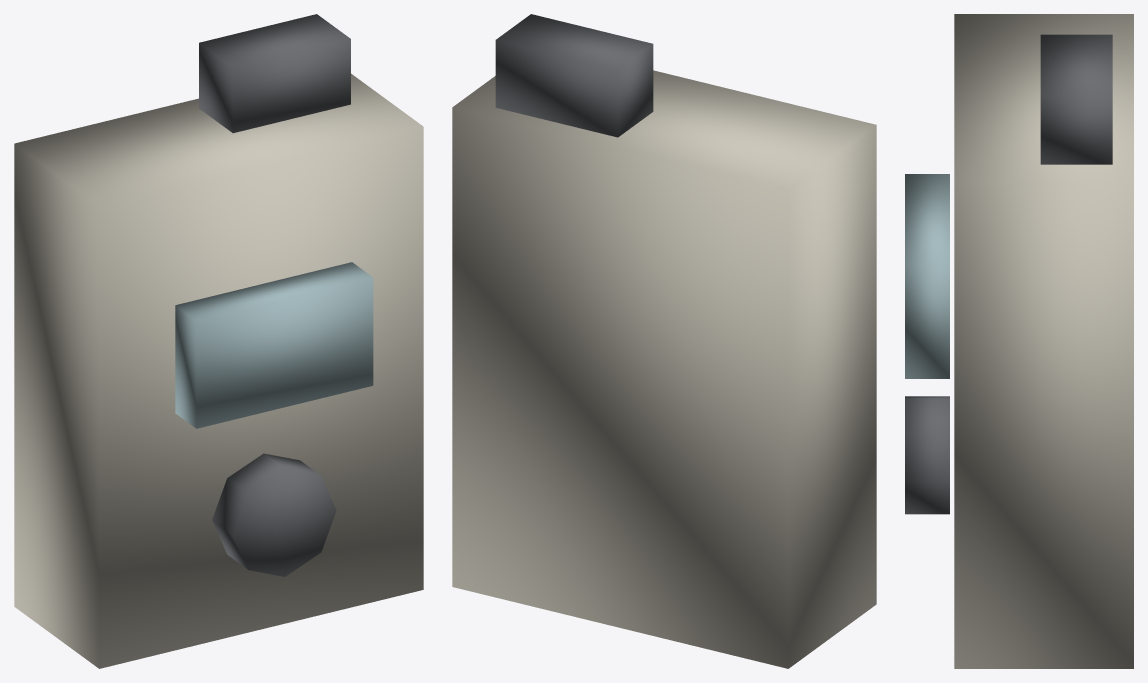
Rendered from wall_thermostat__service.glb.
3 views of the same model, side by side, from view 1: azimuth 30°, elevation 25°; view 2: azimuth 150°, elevation 25°; view 3: azimuth 270°, elevation 25° (orthographic). The views are drawn at different scales.
Parts seen in each view (by area): view 1: world; view 2: world; view 3: world.
Part boxes in pixels (<box>): world: <box>14,14,423,668</box>; world: <box>452,14,876,668</box>; world: <box>905,14,1133,668</box>.
Bounding box in the file's own units: 0.22 × 0.3425 × 0.1275.
